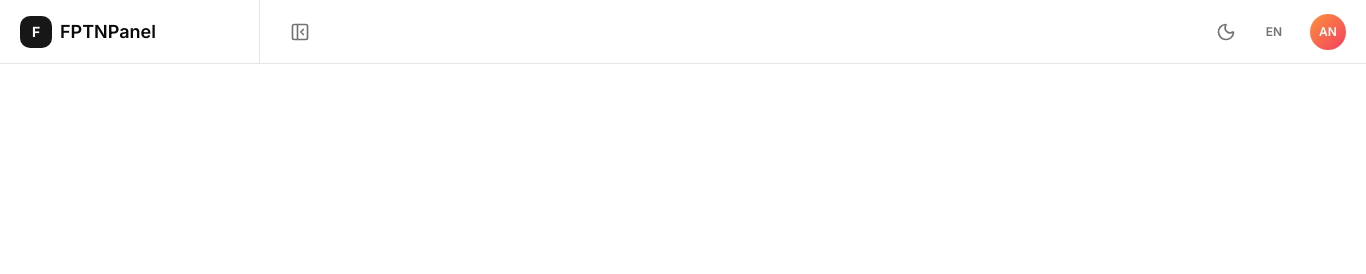
Test: Header user menu › shows the real signed-in username instead of a hardcoded "admin"
The image size is (1366, 274).
Click the button "AN" at (1328,32), box [1310,14,1346,50]
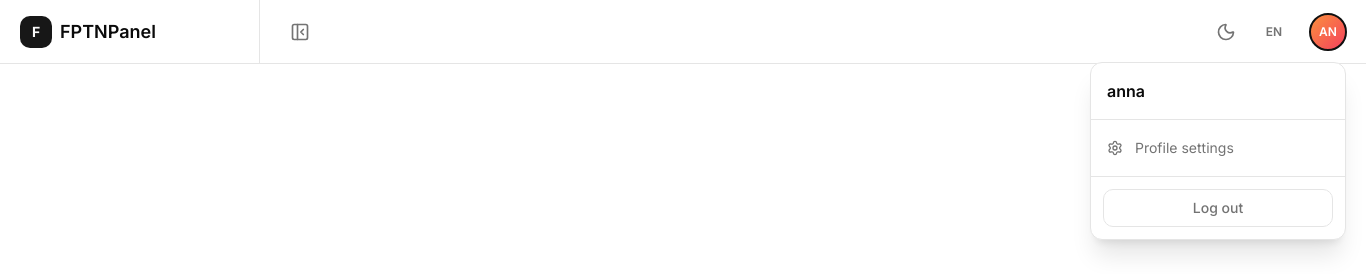
Expected: the text "anna" is shown, [1107,80,1145,100]
